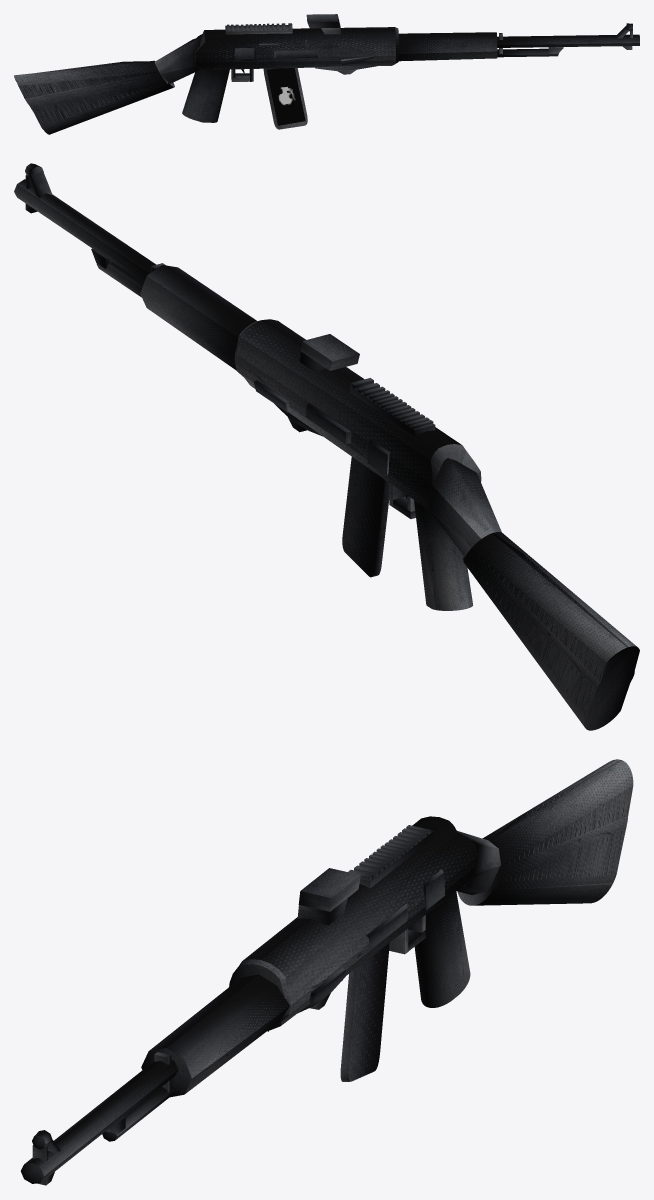
The model's file is playstation_1.glb.
3 views of the same model, one above another, from view 1: azimuth 30°, elevation 25°; view 2: azimuth 150°, elevation 25°; view 3: azimuth 270°, elevation 25° (orthographic). The views are drawn at different scales.
Visible parts, largest first — view 1: Cylinder.005, gövde, Cylinder, Cylinder.006, Cylinder.001, apple, Cylinder.004, Cube.005, Cube.011, Cube.004, Cube.006, Cylinder.002 (+2 smaller); view 2: Cylinder.005, gövde, Cylinder, Cylinder.004, Cube.006, Cylinder.006, Cylinder.001, Cube.005, Cube.004, Cube.016; view 3: Cylinder.005, gövde, Cylinder, Cube.006, Cylinder.006, Cylinder.001, Cube.004, Cube.005, Cylinder.004, Cube.016, Cylinder.002, Cube.007.
Boxes of the visible parts, box(x1,y1,x2,y2) form: Cylinder.005: box(14, 60, 174, 134); gövde: box(195, 27, 398, 70); Cylinder: box(398, 32, 497, 61); Cylinder.006: box(182, 69, 229, 122); Cylinder.001: box(497, 34, 639, 47); apple: box(266, 68, 305, 125); Cylinder.004: box(154, 37, 201, 83); Cube.005: box(225, 23, 292, 34); Cube.011: box(235, 48, 317, 60); Cube.004: box(306, 14, 340, 34); Cube.006: box(263, 68, 307, 129); Cylinder.002: box(497, 48, 558, 57); Cylinder.005: box(463, 532, 639, 730); gövde: box(234, 319, 481, 510); Cylinder: box(140, 265, 256, 370); Cylinder.004: box(428, 458, 501, 556); Cube.006: box(342, 457, 389, 577); Cylinder.006: box(414, 500, 472, 610); Cylinder.001: box(14, 179, 155, 282); Cube.005: box(350, 378, 435, 436); Cube.004: box(299, 334, 359, 372); Cube.016: box(306, 403, 389, 475); Cylinder.005: box(457, 759, 633, 905); gövde: box(229, 816, 478, 1031); Cylinder: box(141, 974, 289, 1097); Cube.006: box(340, 943, 389, 1081); Cylinder.006: box(414, 891, 470, 1007); Cylinder.001: box(21, 1059, 178, 1183); Cube.004: box(297, 868, 360, 925); Cube.005: box(348, 825, 433, 888); Cylinder.004: box(457, 831, 500, 894); Cube.016: box(366, 869, 445, 950); Cylinder.002: box(102, 1085, 174, 1141); Cube.007: box(389, 915, 425, 954).
Bounding box in the file's own units: 443 × 97.96 × 243.
Materials: 27 (26 with a texture image).
